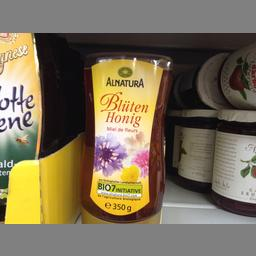honey: (76, 50, 172, 224)
